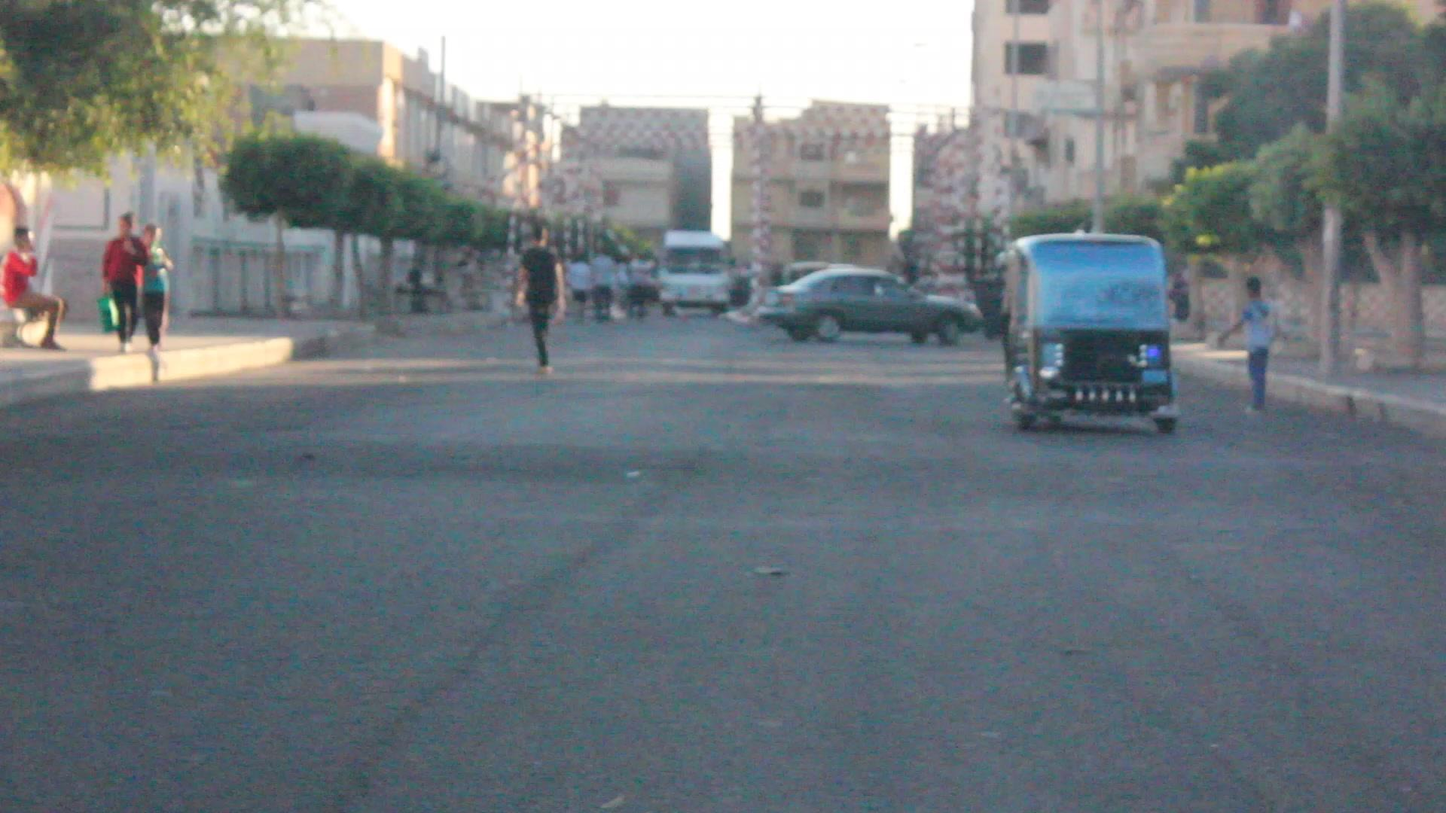Bump: (8, 412, 1446, 531)
